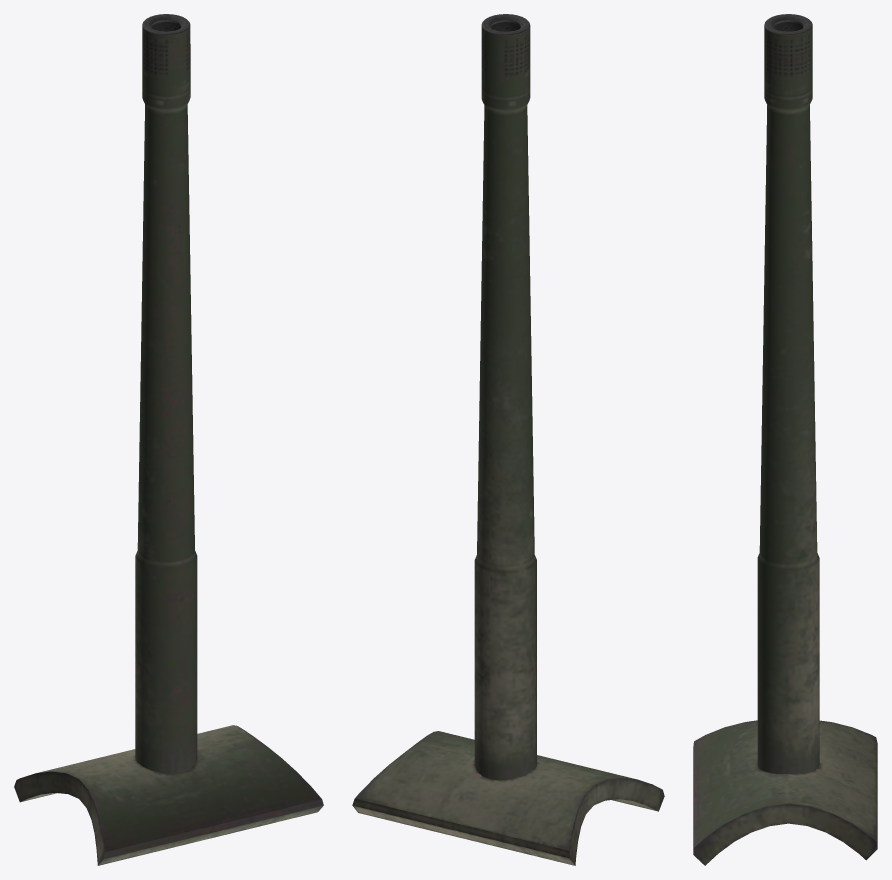
The model's file is Gun_01.glb.
3 views of the same model, side by side, from view 1: azimuth 30°, elevation 25°; view 2: azimuth 150°, elevation 25°; view 3: azimuth 270°, elevation 25° (orthographic).
Parts seen in each view (by area): view 1: set_0_group_0; view 2: set_0_group_0; view 3: set_0_group_0.
Part boxes in pixels (bbox=[...]): set_0_group_0: bbox=[14, 14, 323, 865]; set_0_group_0: bbox=[352, 14, 664, 865]; set_0_group_0: bbox=[693, 14, 877, 865].
Bounding box in the file's own units: 0.8136 × 2.77 × 0.5863.
1 material, 1 textured.
